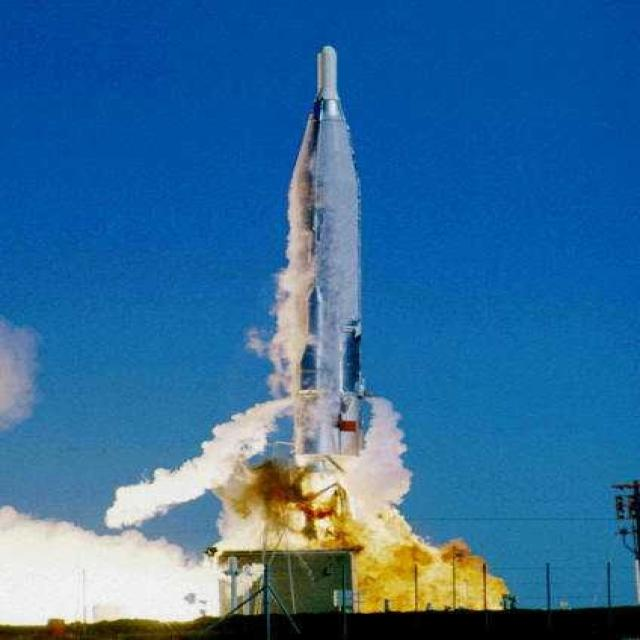missile: (301, 38, 376, 462)
